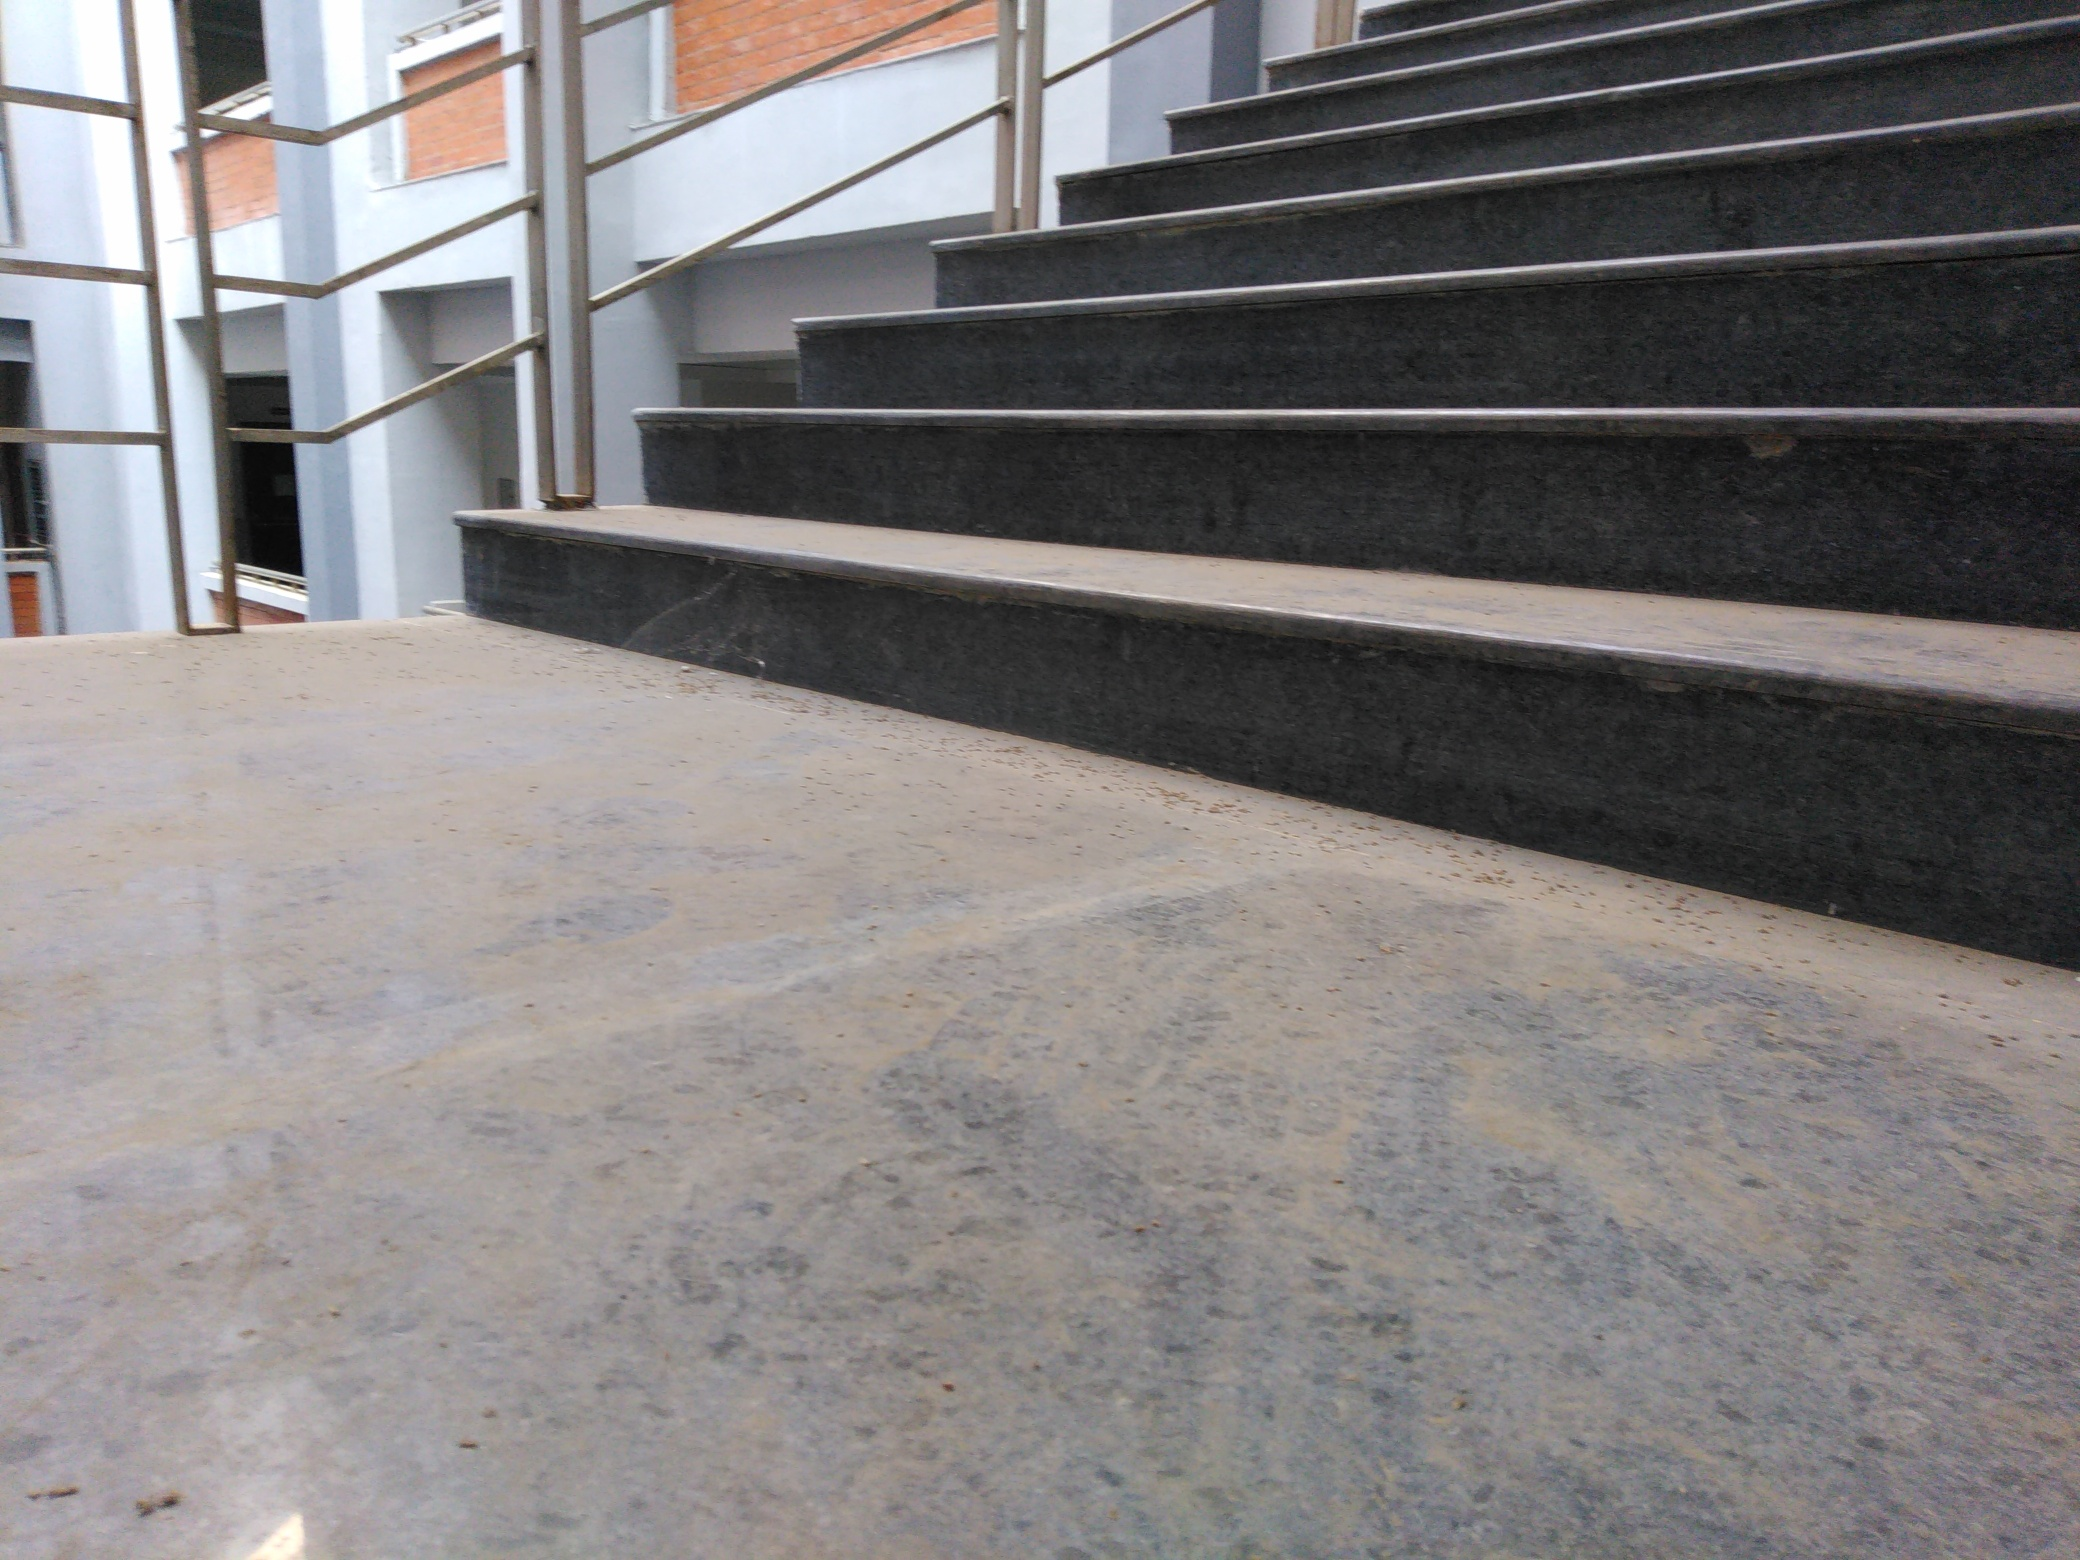stairs_up: (475, 11, 2064, 855)
